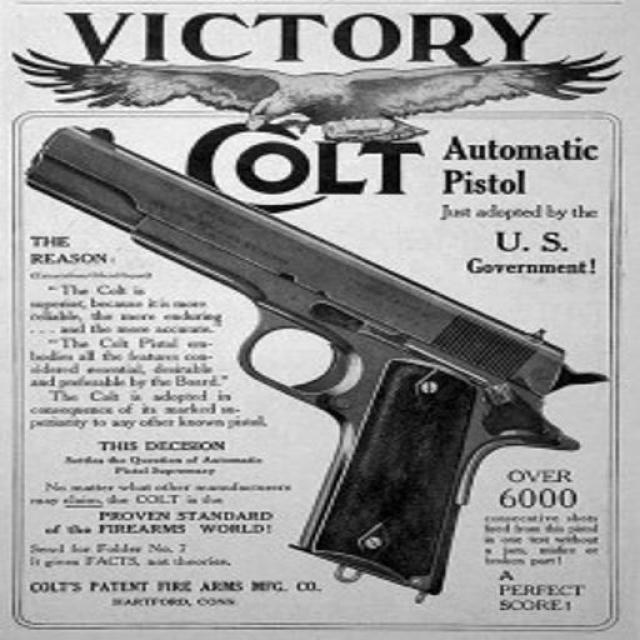pistol: (24, 121, 613, 595)
